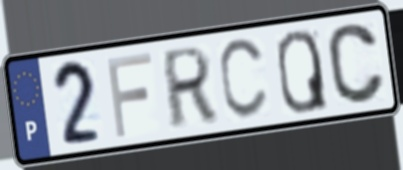2: (49, 56, 108, 152)
C: (324, 21, 388, 108), (216, 34, 271, 123)
F: (104, 48, 155, 140)
Q: (274, 27, 331, 116)
R: (161, 43, 218, 133)
